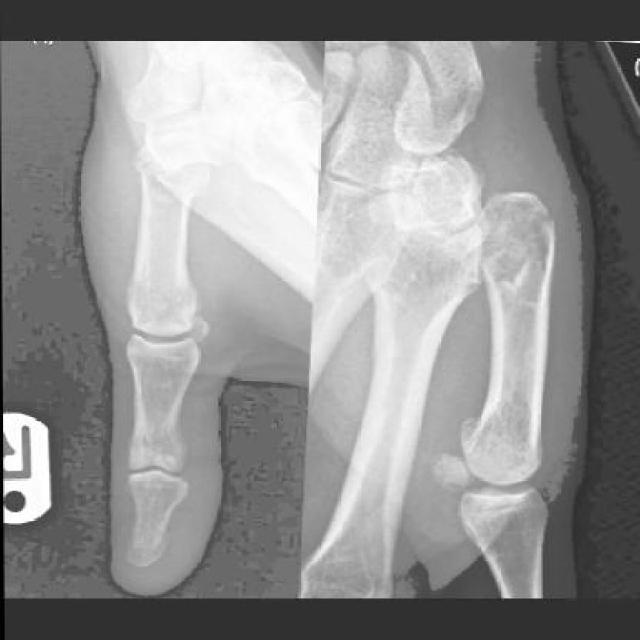Fracture: (429, 191, 559, 296), (132, 145, 211, 205)
